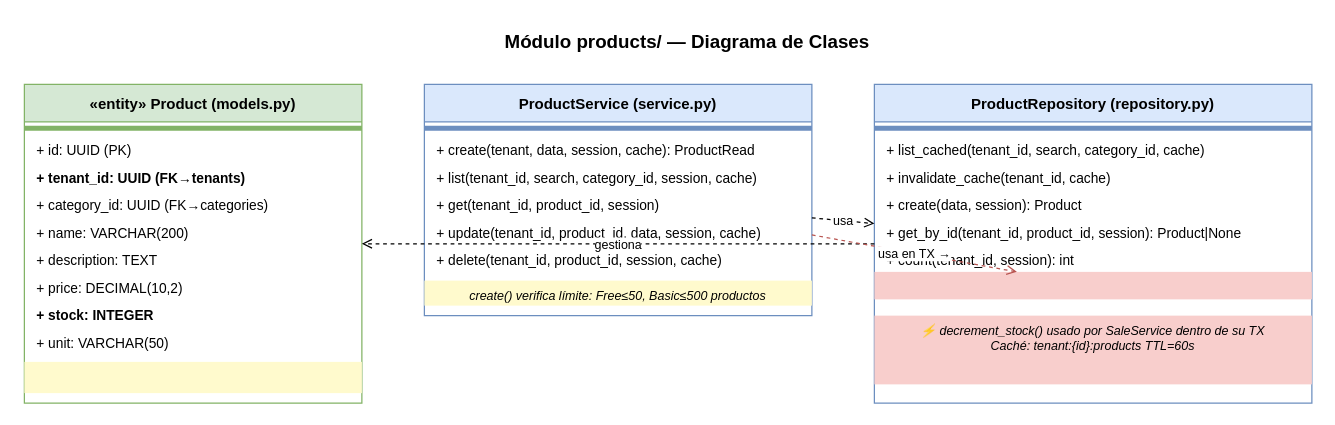
Some shapes in this 1335 by 425 pixel diagram are drawn without their labels. Here are the shapes that lost their labels. From the top down, the centre of each, then its label:
(1092,285): + decrement_stock(tenant_id, product_id, qty, session)
(192,376): Índice: (tenant_id, name) para búsqueda predictiva
